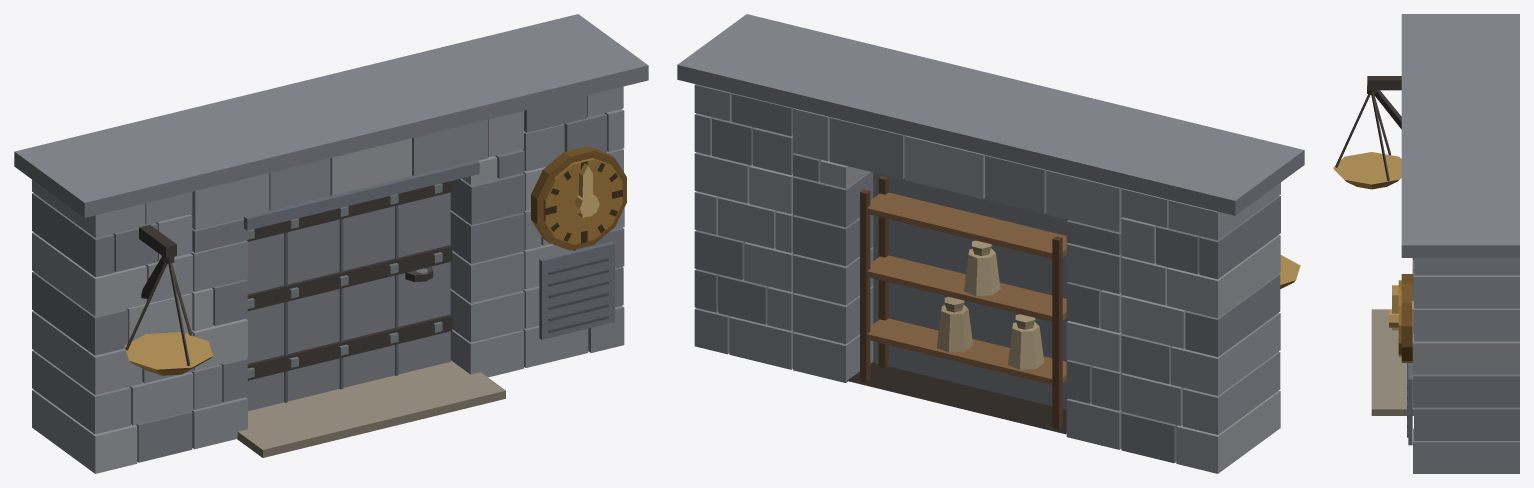
The model's file is vault_door.glb.
3 views of the same model, side by side, from view 1: azimuth 30°, elevation 25°; view 2: azimuth 150°, elevation 25°; view 3: azimuth 270°, elevation 25° (orthographic). The views are drawn at different scales.
Visible parts, largest first — view 1: vault_door, Door, Dial, Pan; view 2: vault_door, Door; view 3: vault_door, Pan, Dial.
Boxes of the visible parts, bbox=[...] form: vault_door: bbox=[14, 14, 648, 473]; Door: bbox=[246, 175, 452, 410]; Dial: bbox=[531, 146, 626, 250]; Pan: bbox=[124, 255, 212, 375]; vault_door: bbox=[677, 14, 1304, 473]; Door: bbox=[873, 172, 1067, 409]; vault_door: bbox=[1367, 14, 1519, 473]; Pan: bbox=[1333, 86, 1401, 189]; Dial: bbox=[1389, 274, 1412, 362].
Size of the model in its own units: 5.1 by 2.43 by 1.74.
